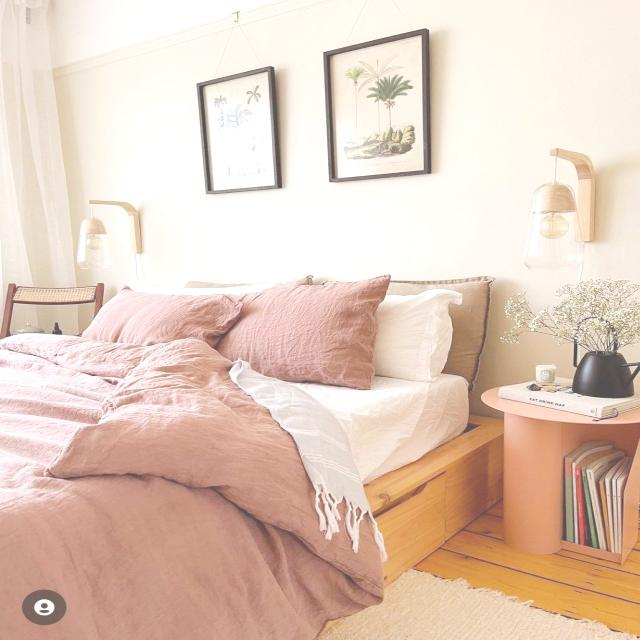bed: (0, 261, 489, 636)
